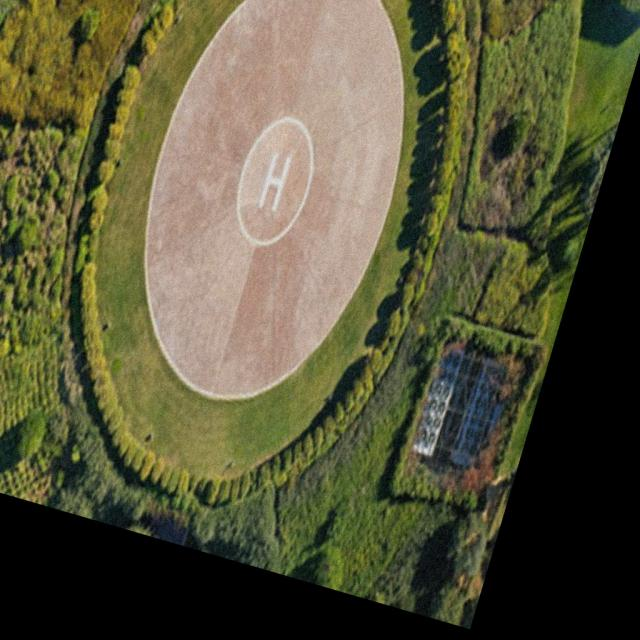helipad: (232, 112, 316, 249)
